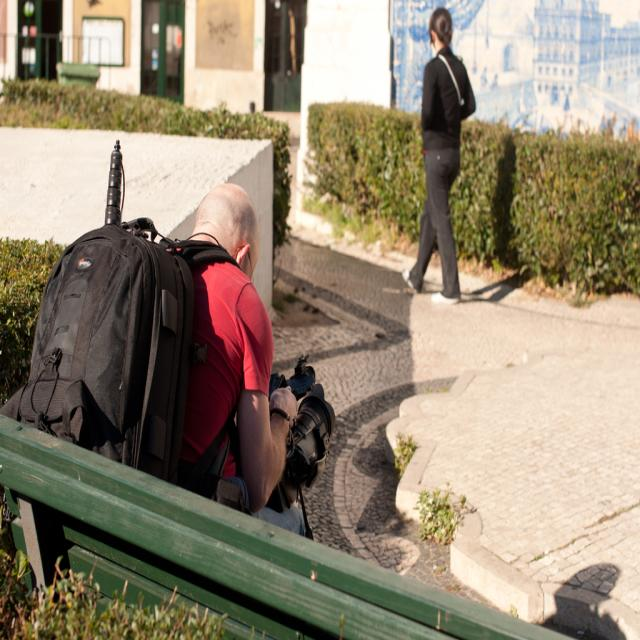backpack: (22, 226, 249, 519)
